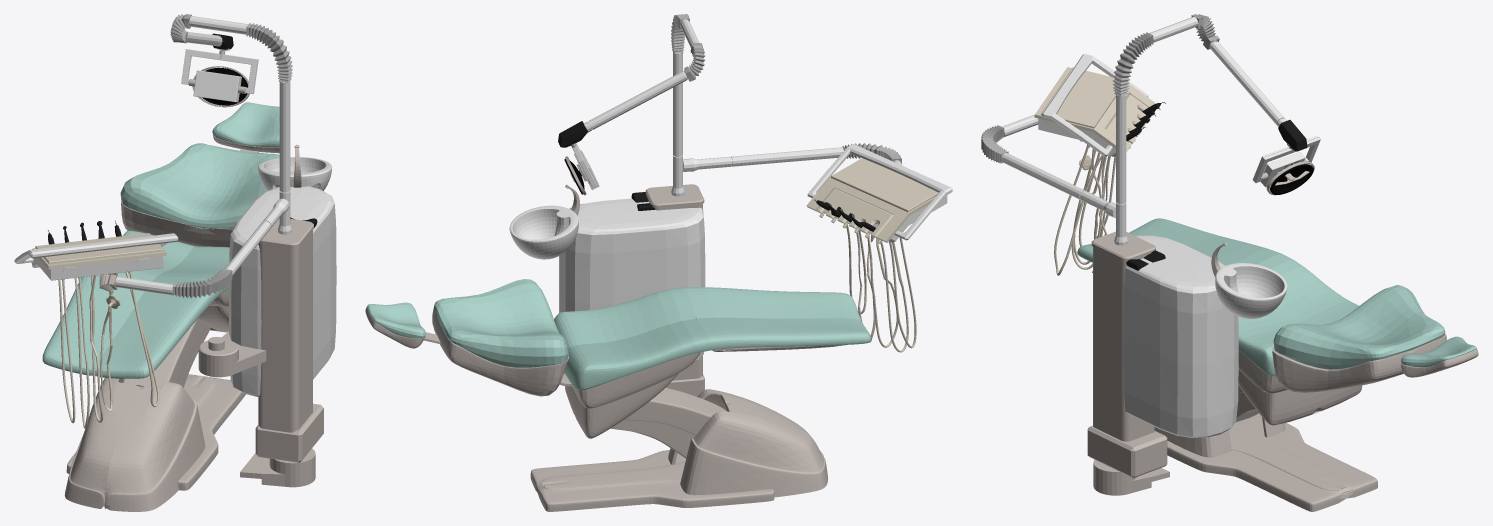
File: dental_chair.fbx
The picture shows the model from 3 angles, left to right: view 1: azimuth 30°, elevation 25°; view 2: azimuth 150°, elevation 25°; view 3: azimuth 270°, elevation 25°; orthographic projection. The views are drawn at different scales.
Visible parts, largest first — view 1: Box11w, Box02, Box04, Box10, $$$DUMMY.Group02, Box09, Box01, Box12, Box08, Box11ff, Box03, Box06 (+1 smaller); view 2: Box04, Box10, Box11w, Box02, $$$DUMMY.Group02, Box09, Box01, Box03, Box08, Box05, Box06, Box12; view 3: Box11w, Box10, $$$DUMMY.Group02, Box01, Box04, Box09, Box08, Box06, Box02, Box12, Box05, Box11.
Boxes of the visible parts, x1=… form: Box11w: x1=99, y1=14, x2=331, y2=487; Box02: x1=64, y1=377, x2=205, y2=511; Box04: x1=42, y1=230, x2=229, y2=378; Box10: x1=229, y1=186, x2=336, y2=397; $$$DUMMY.Group02: x1=14, y1=220, x2=178, y2=428; Box09: x1=120, y1=143, x2=279, y2=230; Box01: x1=66, y1=374, x2=245, y2=490; Box12: x1=212, y1=102, x2=279, y2=147; Box08: x1=121, y1=202, x2=232, y2=247; Box11ff: x1=198, y1=331, x2=266, y2=377; Box03: x1=123, y1=319, x2=210, y2=388; Box06: x1=198, y1=305, x2=228, y2=332; Box04: x1=554, y1=287, x2=870, y2=390; Box10: x1=559, y1=198, x2=705, y2=361; Box11w: x1=509, y1=14, x2=902, y2=396; Box02: x1=668, y1=389, x2=828, y2=497; $$$DUMMY.Group02: x1=806, y1=144, x2=952, y2=352; Box09: x1=434, y1=279, x2=568, y2=367; Box01: x1=530, y1=450, x2=774, y2=511; Box03: x1=611, y1=387, x2=726, y2=458; Box08: x1=432, y1=308, x2=568, y2=396; Box05: x1=572, y1=317, x2=700, y2=408; Box06: x1=565, y1=373, x2=678, y2=438; Box12: x1=367, y1=302, x2=425, y2=338; Box11w: x1=981, y1=14, x2=1320, y2=495; Box10: x1=1123, y1=235, x2=1238, y2=437; $$$DUMMY.Group02: x1=1034, y1=54, x2=1165, y2=275; Box01: x1=1167, y1=413, x2=1377, y2=511; Box04: x1=1077, y1=218, x2=1359, y2=376; Box09: x1=1273, y1=285, x2=1445, y2=369; Box08: x1=1272, y1=334, x2=1446, y2=392; Box06: x1=1238, y1=370, x2=1362, y2=425; Box02: x1=1154, y1=417, x2=1285, y2=457; Box12: x1=1401, y1=336, x2=1476, y2=367; Box05: x1=1238, y1=350, x2=1287, y2=393; Box11: x1=1400, y1=348, x2=1478, y2=377.
Bounding box in the file's own units: 1.96 × 1.9 × 1.95.
